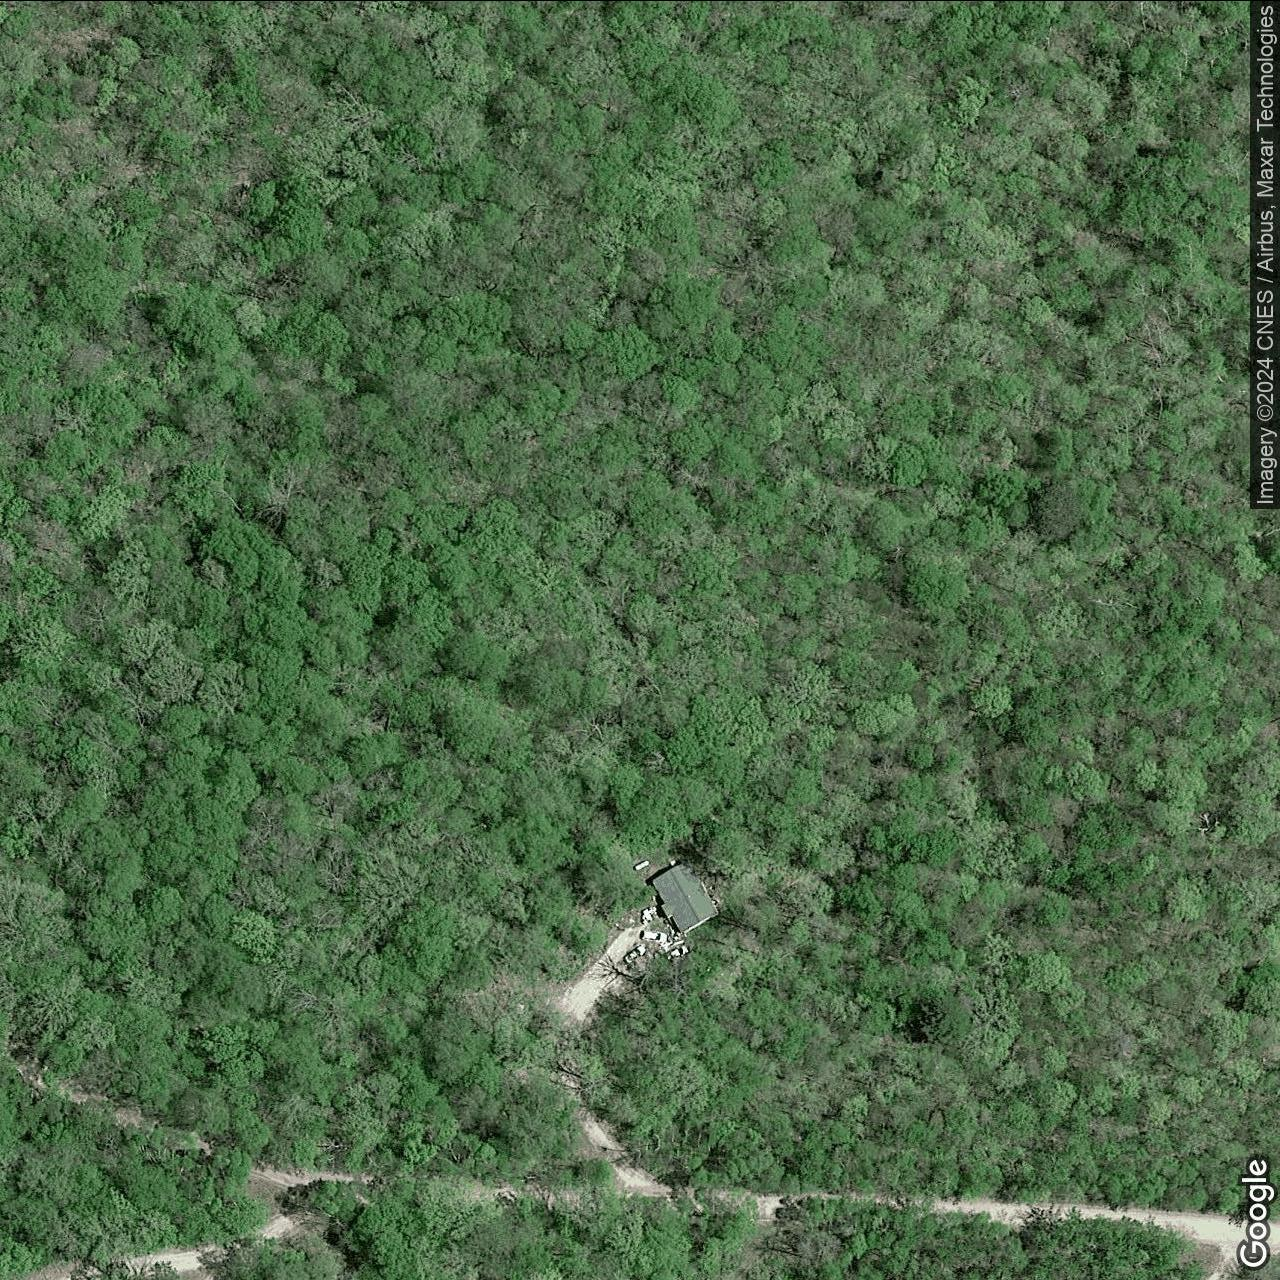House: (652, 858, 720, 933)
Propane: (632, 859, 649, 871)
